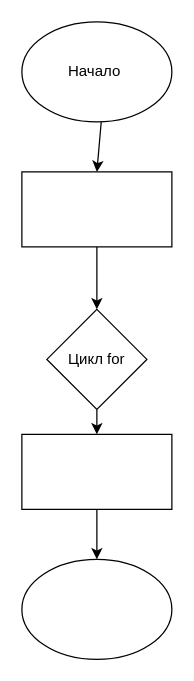
Image size: 194x681. Some labels were removed from this diagram. Each missing label, with the centre of its shape:
"max = array" belongs at pixel 96 471.
"Создание масива" belongs at pixel 96 209.
